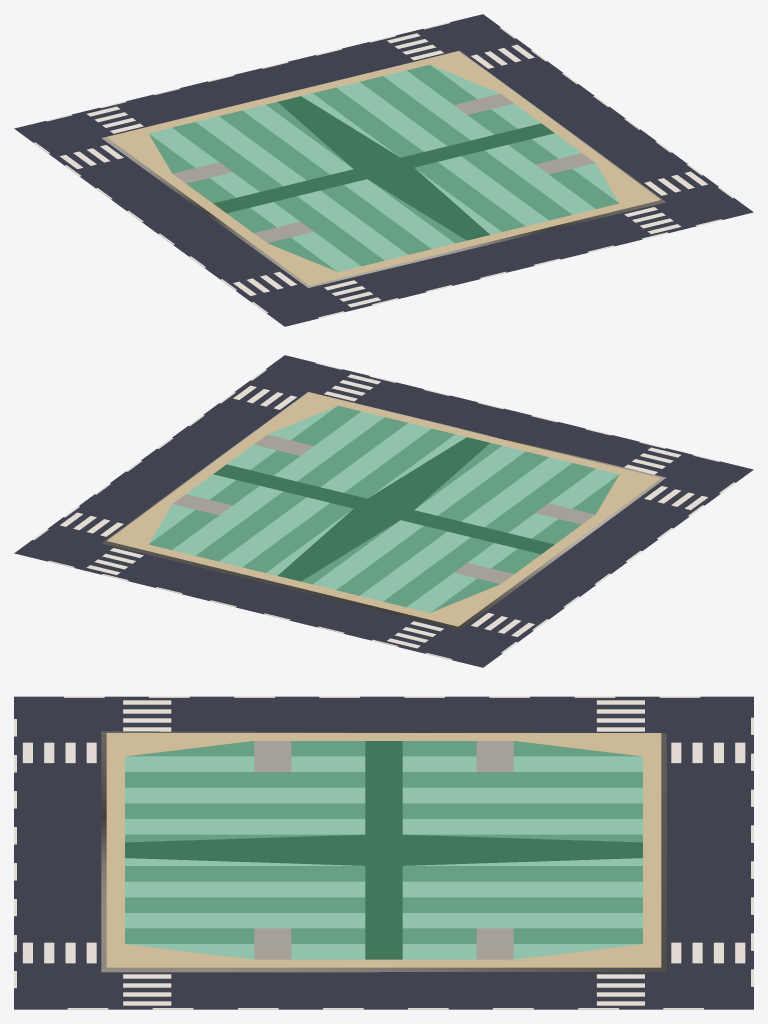
The model's file is tile_residential.glb.
3 views of the same model, one above another, from view 1: azimuth 30°, elevation 25°; view 2: azimuth 150°, elevation 25°; view 3: azimuth 270°, elevation 25° (orthographic). The views are drawn at different scales.
Parts seen in each view (by area): view 1: tile_residential; view 2: tile_residential; view 3: tile_residential.
Part boxes in pixels (bbox=[...]): tile_residential: bbox=[14, 14, 753, 326]; tile_residential: bbox=[14, 355, 753, 667]; tile_residential: bbox=[14, 696, 753, 1009].
Bounding box in the file's own units: 40 × 0.1709 × 40.
1 material, 1 textured.
